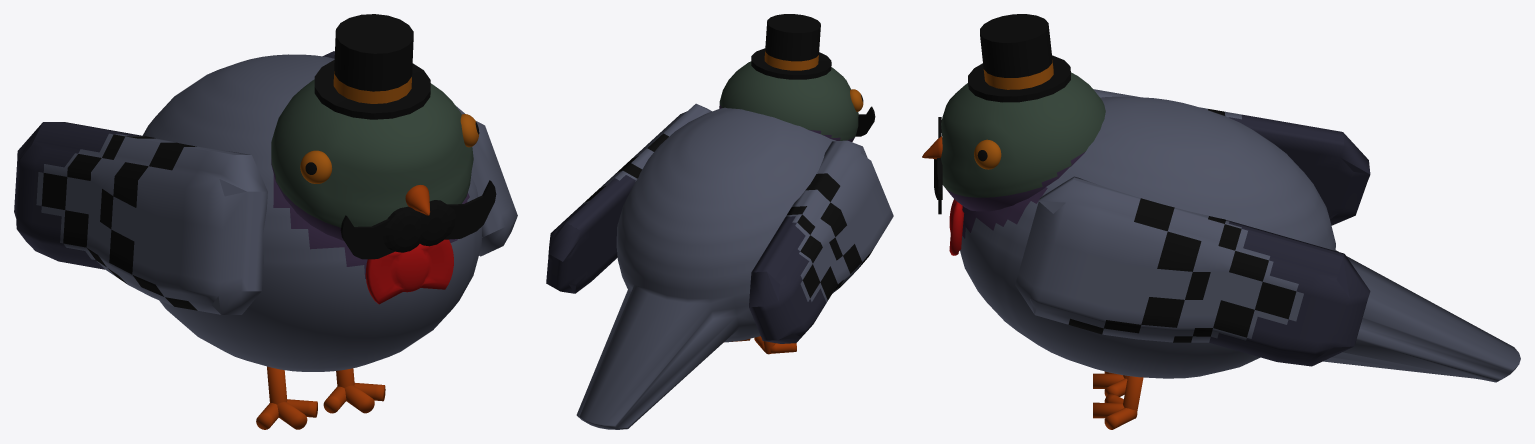
File: SanBasilioPigeon_Este.fbx
3 renders of one model, left to right at view 1: azimuth 30°, elevation 25°; view 2: azimuth 150°, elevation 25°; view 3: azimuth 270°, elevation 25°, orthographic. The views are drawn at different scales.
Parts seen in each view (by area): view 1: flyers_l, chunk, head, TopHat, Cylinder001, BoeTie, flyers_R, totsie_L, totsie_R, EYES_L, TheNom, EYES_R; view 2: chunk, flyers_l, flyers_R, head, TopHat, totsie_L, Cylinder001; view 3: chunk, flyers_R, head, TopHat, flyers_l, totsie_R, totsie_L, BoeTie, EYES_R.
Part boxes in pixels (x1,y1,x2,y2): flyers_l: (14, 122, 267, 314); chunk: (143, 54, 481, 371); head: (271, 79, 473, 240); TopHat: (314, 14, 430, 119); Cylinder001: (340, 180, 496, 259); BoeTie: (365, 239, 453, 304); flyers_R: (323, 51, 517, 256); totsie_L: (256, 366, 317, 429); totsie_R: (323, 368, 385, 413); EYES_L: (300, 150, 332, 183); TheNom: (405, 185, 430, 215); EYES_R: (460, 114, 479, 147); chunk: (576, 107, 836, 429); flyers_l: (749, 140, 893, 343); flyers_R: (546, 103, 711, 293); head: (719, 61, 858, 141); TopHat: (751, 14, 831, 79); totsie_L: (754, 336, 796, 354); Cylinder001: (855, 106, 875, 136); chunk: (960, 96, 1520, 382); flyers_R: (1015, 176, 1370, 366); head: (941, 72, 1105, 211); TopHat: (968, 14, 1070, 102); flyers_l: (1093, 89, 1370, 225); totsie_R: (1093, 376, 1143, 429); totsie_L: (1093, 371, 1127, 396); BoeTie: (949, 199, 964, 255); EYES_R: (974, 139, 1001, 169).
Bounding box in the file's own units: 49.33 × 53.5 × 77.05.
